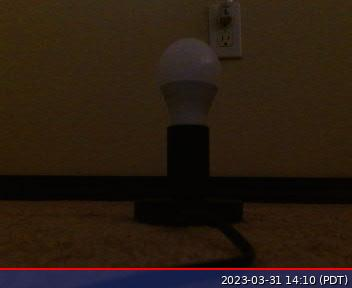Fan: (156, 36, 222, 102)
